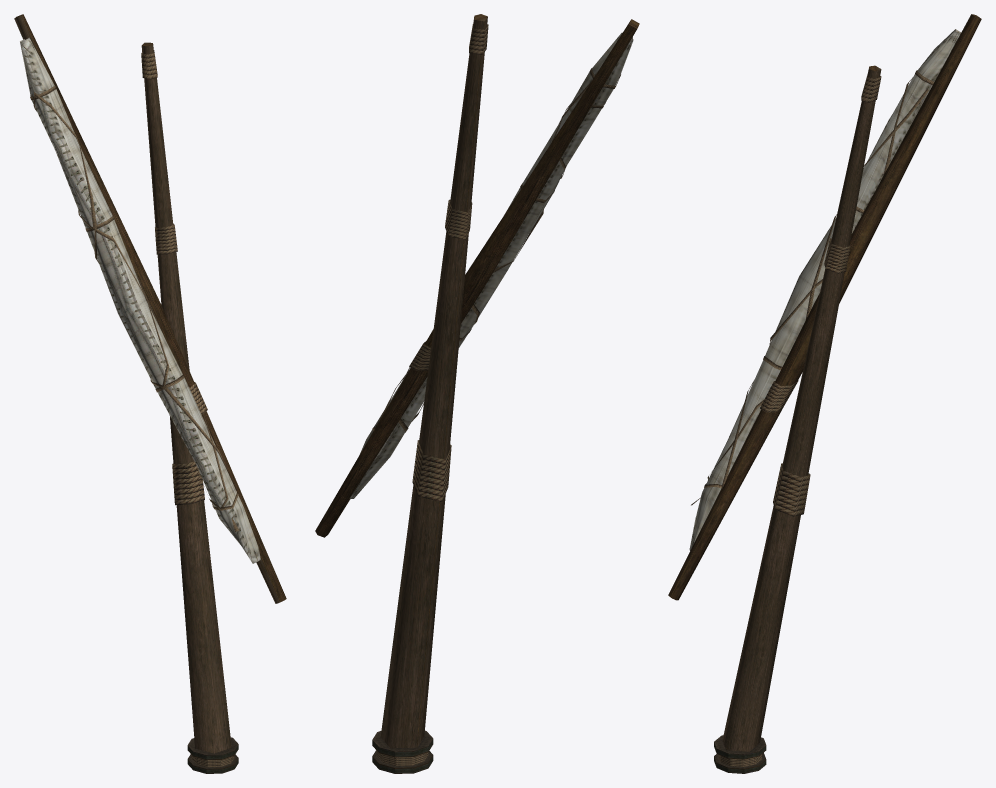
File: back_dot.fbx
3 views of the same model, side by side, from view 1: azimuth 30°, elevation 25°; view 2: azimuth 210°, elevation 25°; view 3: azimuth 270°, elevation 25° (orthographic). The views are drawn at different scales.
Visible parts, largest first — view 1: back_dot; view 2: back_dot; view 3: back_dot.
Boxes of the visible parts, bbox=[...] form: back_dot: bbox=[14, 14, 286, 773]; back_dot: bbox=[315, 14, 639, 773]; back_dot: bbox=[668, 14, 981, 773].
Size of the model in its own units: 9.62 by 47.71 by 19.15.
